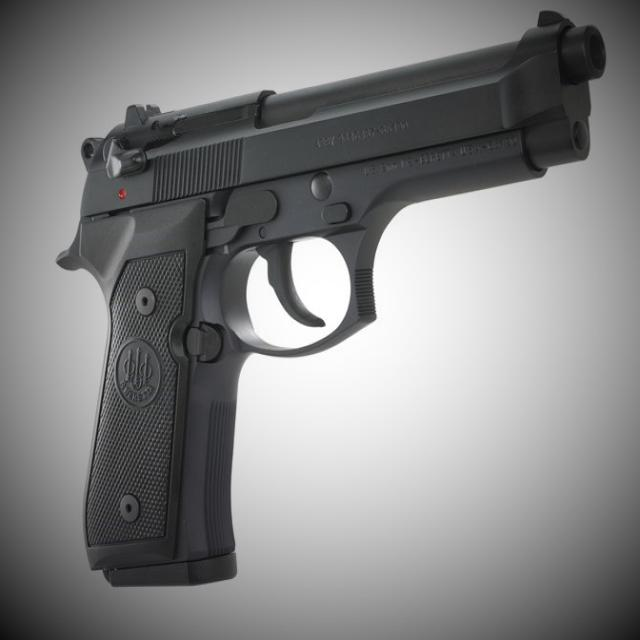Gun: (32, 12, 622, 543)
